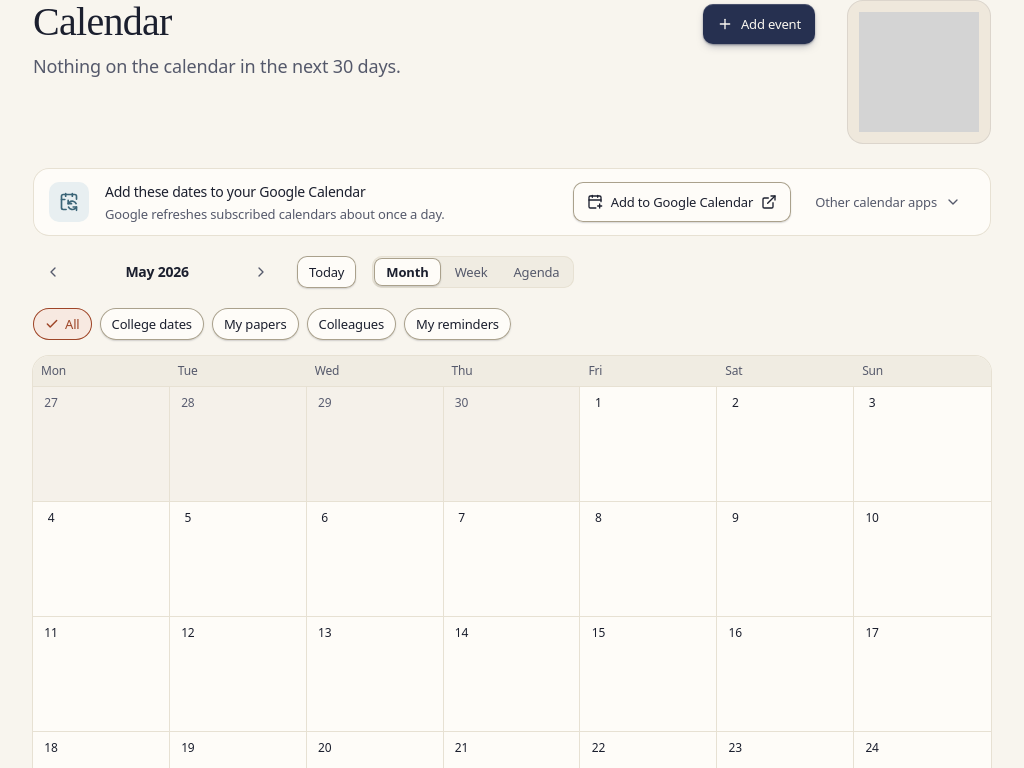
Test: Calendar › offers the office a choice of audience
Step 1. Click the button "14" → point(462, 633), box [450,621,474,645]
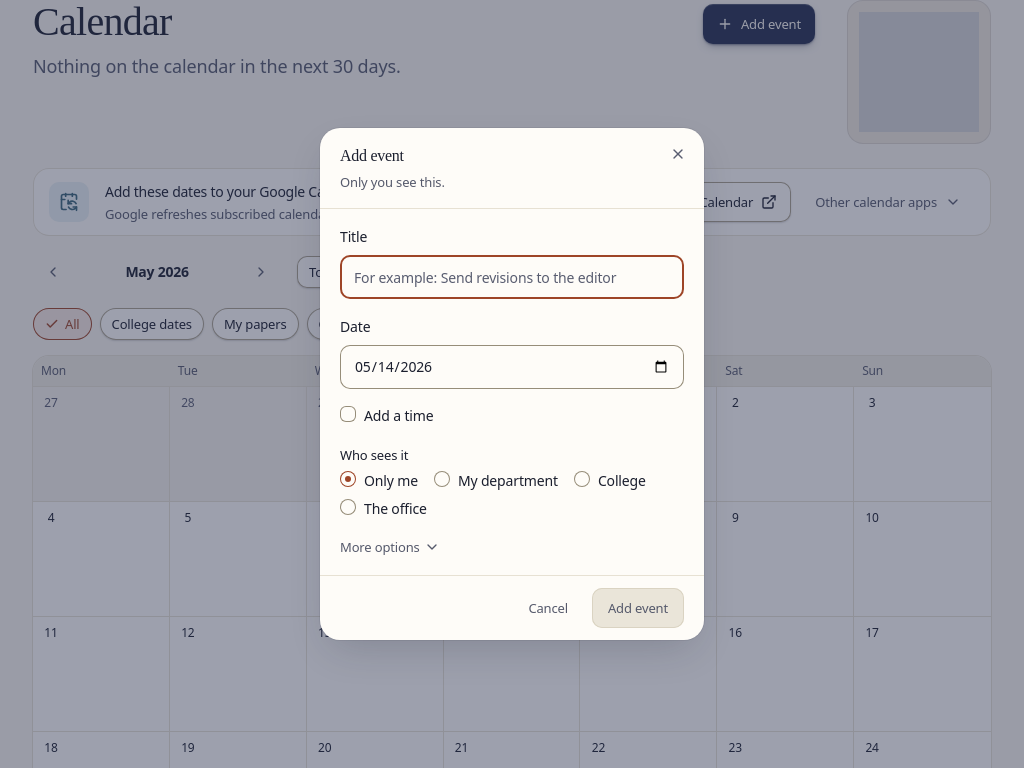
Now the text "Who sees it" is shown, box [340,445,408,465]
Now the radio button labelled "College" is shown, box [574,471,590,487]
